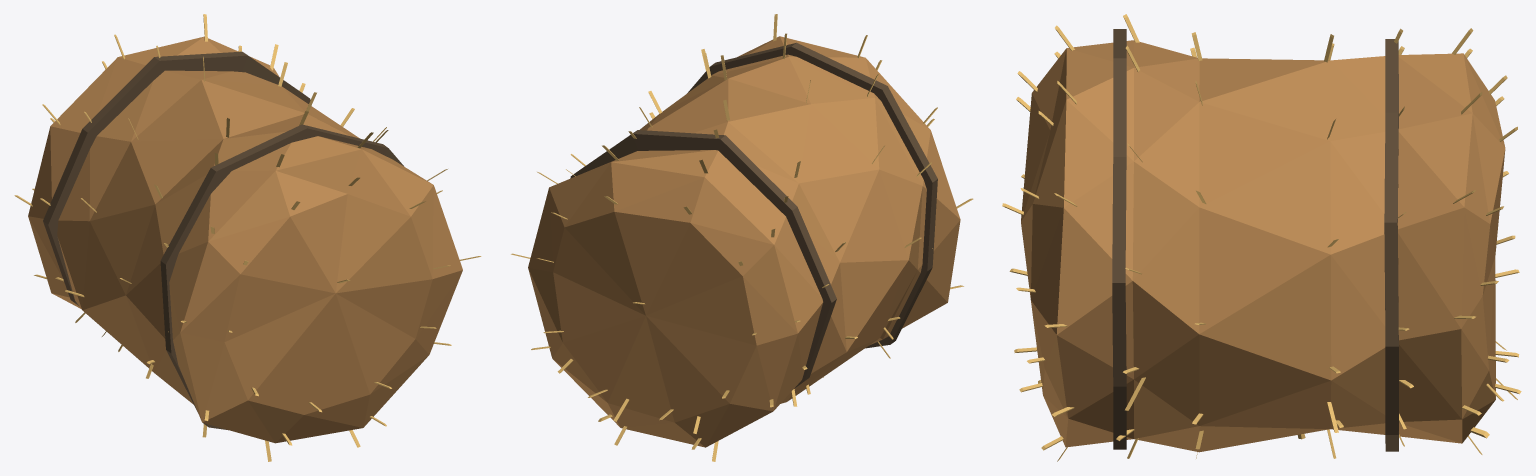
File: Hay_2.fbx
3 renders of one model, left to right at view 1: azimuth 30°, elevation 25°; view 2: azimuth 150°, elevation 25°; view 3: azimuth 270°, elevation 25°, orthographic. The views are drawn at different scales.
Parts seen in each view (by area): view 1: Hay_2; view 2: Hay_2; view 3: Hay_2.
Part boxes in pixels (left/top/right/bottom): Hay_2: left=14, top=14, right=481, bottom=461; Hay_2: left=511, top=14, right=973, bottom=461; Hay_2: left=1002, top=14, right=1521, bottom=461.
Size of the model in its own units: 1.73 by 1.7 by 2.
